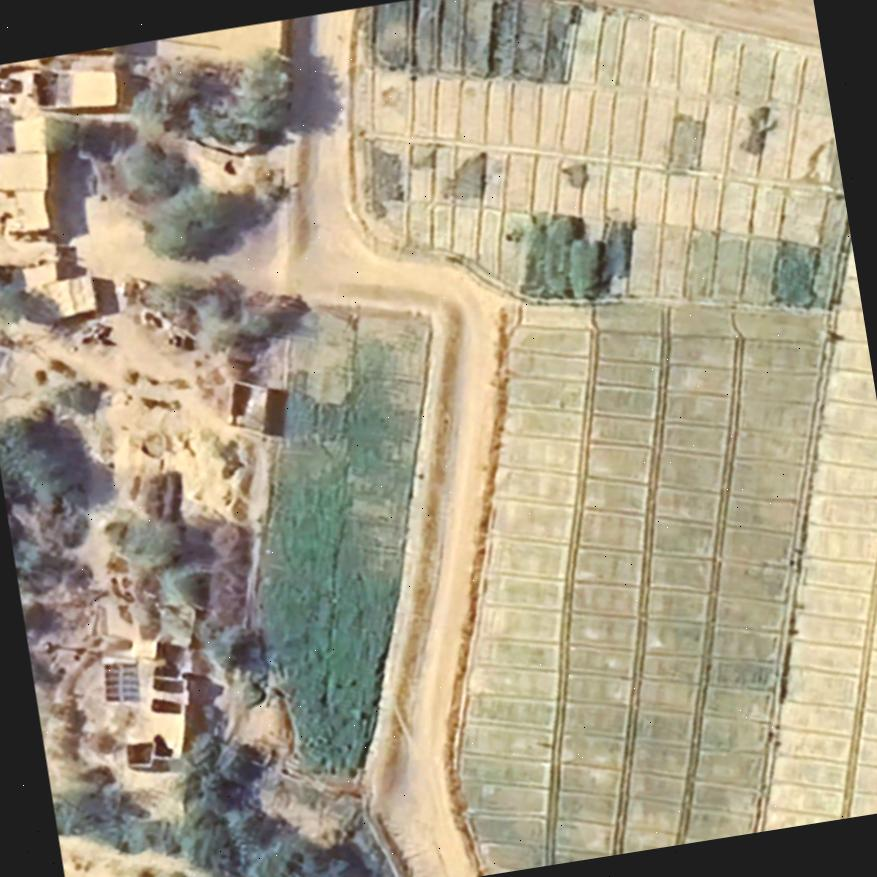Solarpanel: (100, 658, 144, 706)
